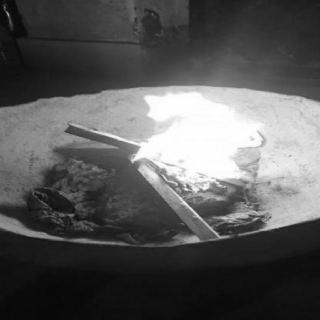Fire: (127, 85, 267, 179)
